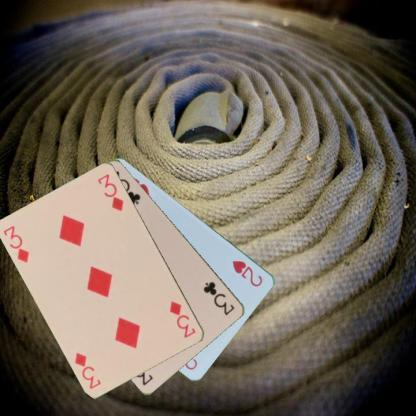2h: (231, 258, 264, 288)
3c: (200, 278, 236, 316)
3d: (167, 298, 197, 339), (1, 223, 30, 264)
